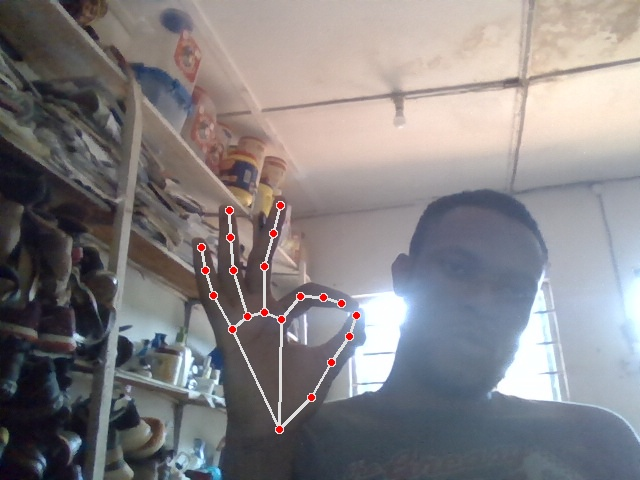okay: (193, 196, 366, 446)
